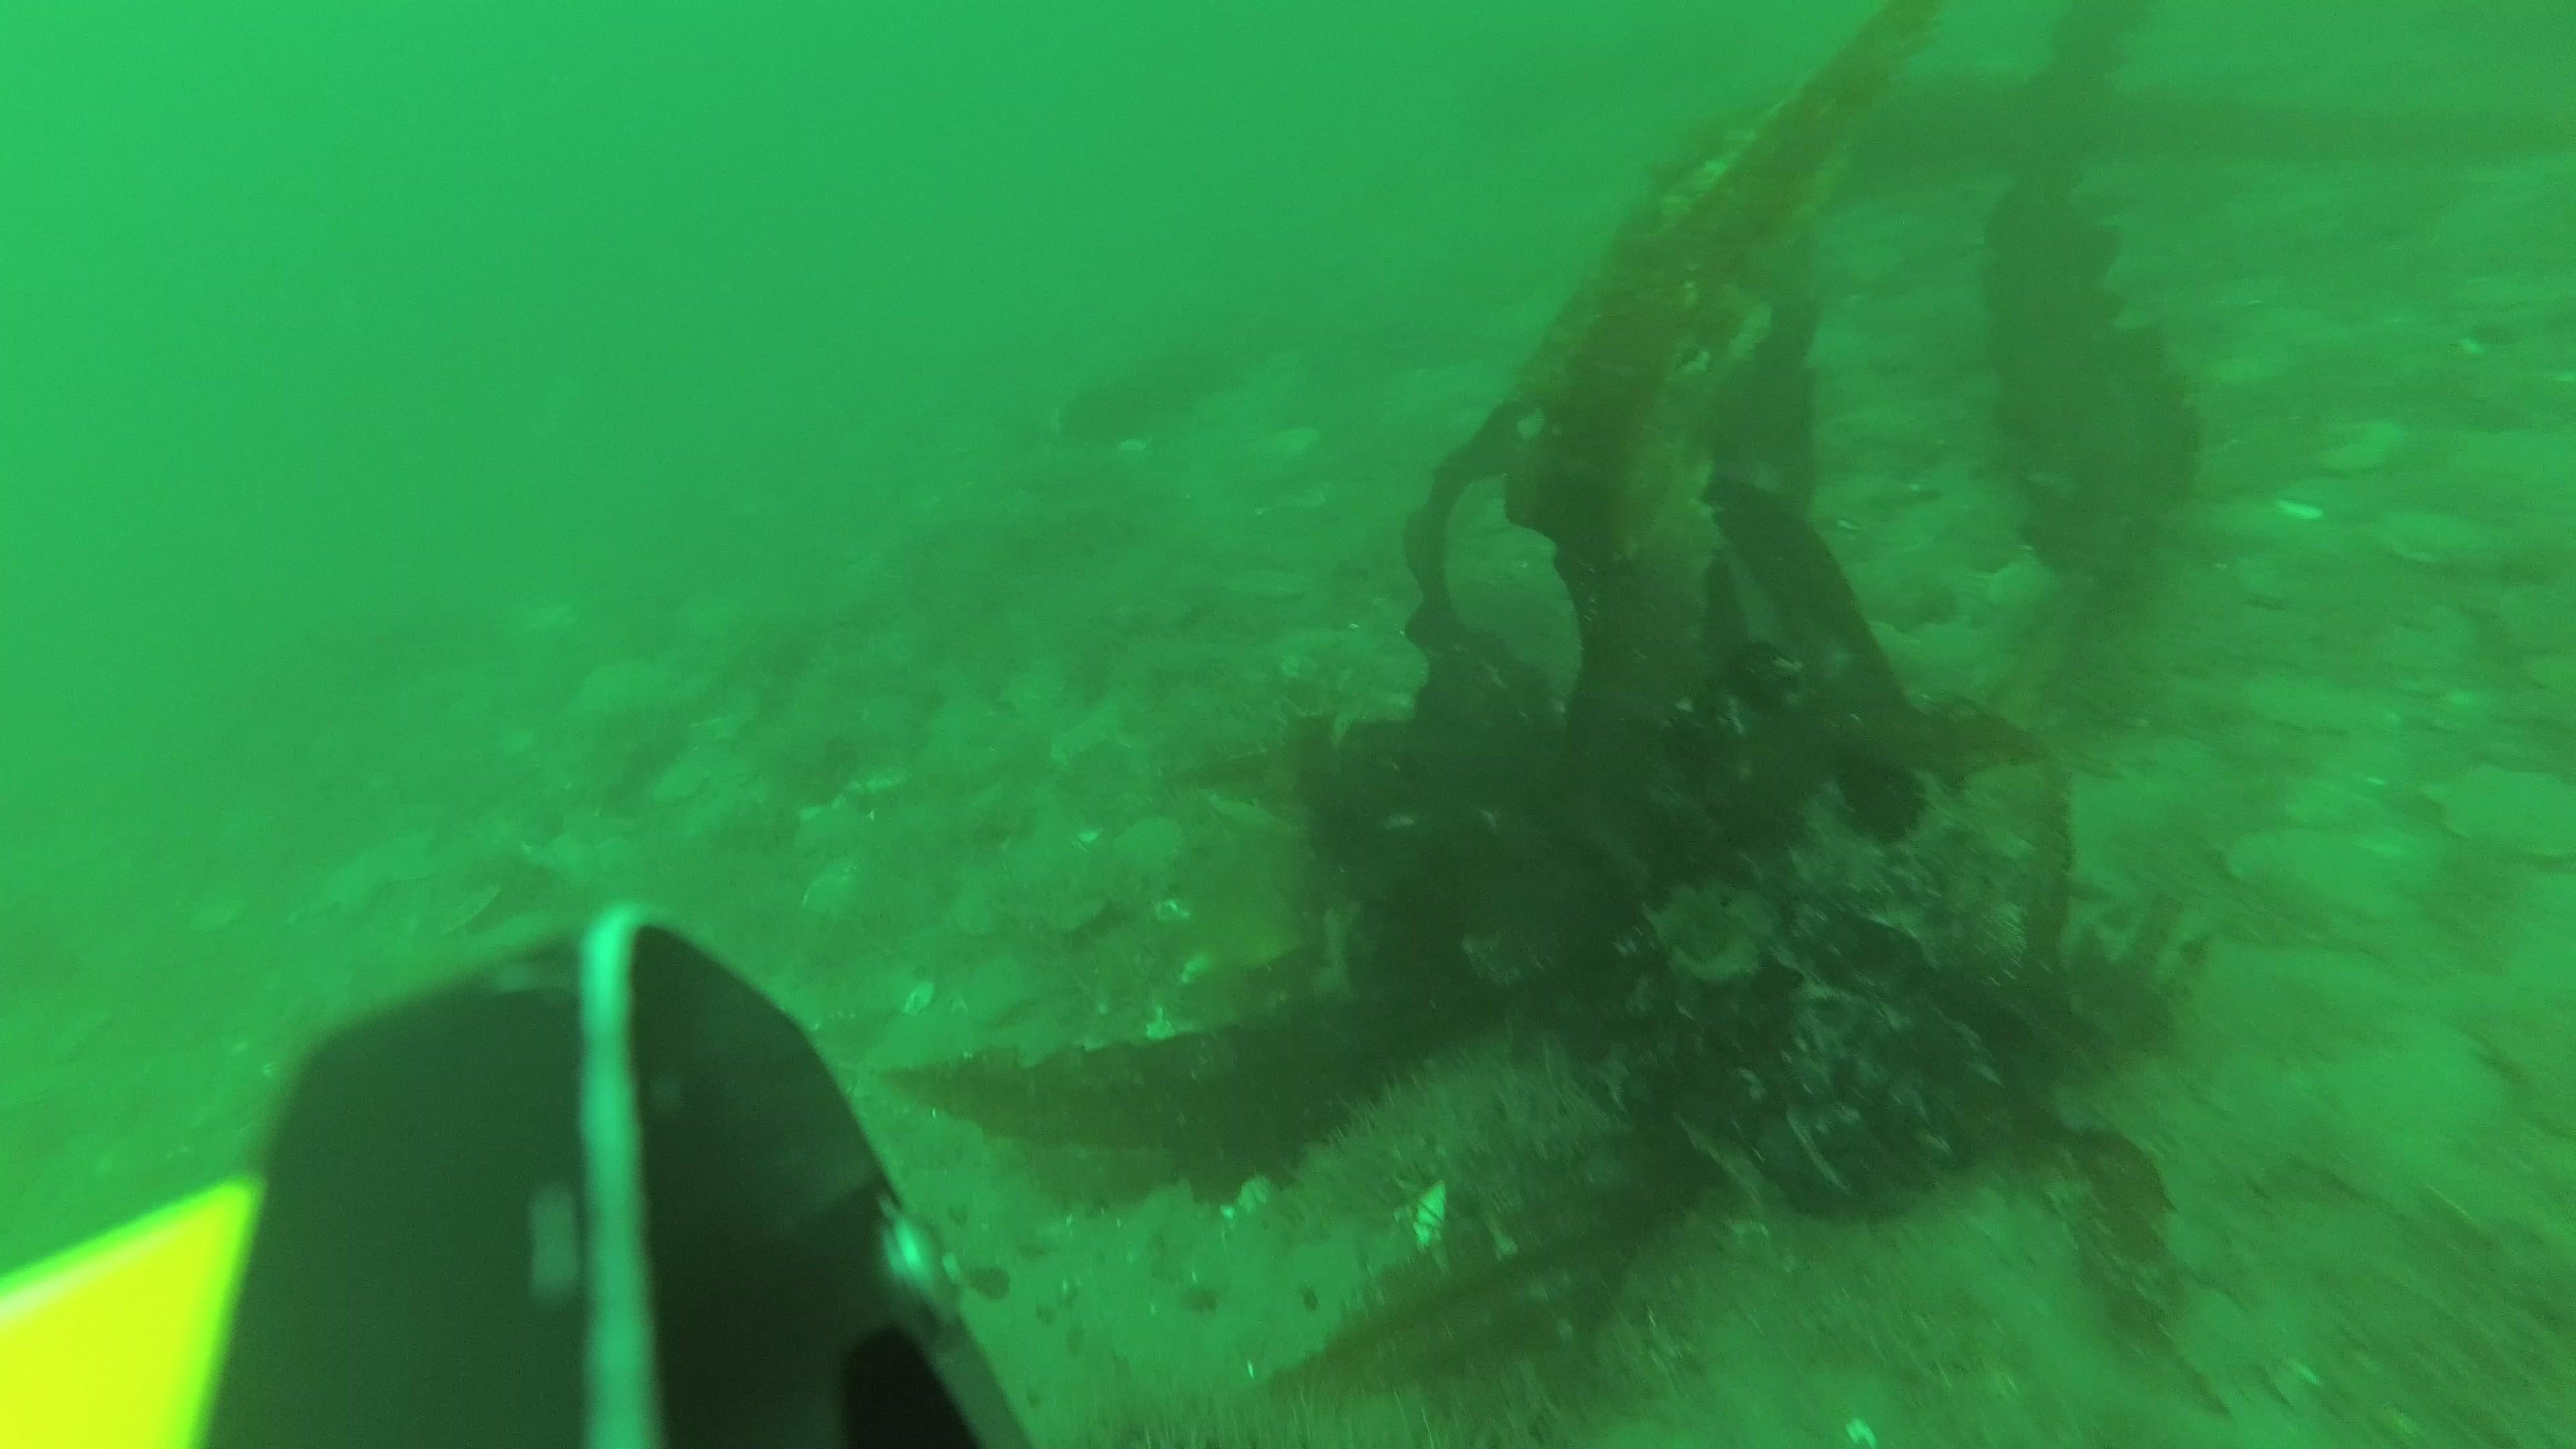scallop: (2233, 816, 2406, 922), (2438, 755, 2576, 867), (2376, 501, 2495, 577), (1097, 821, 1191, 906)
